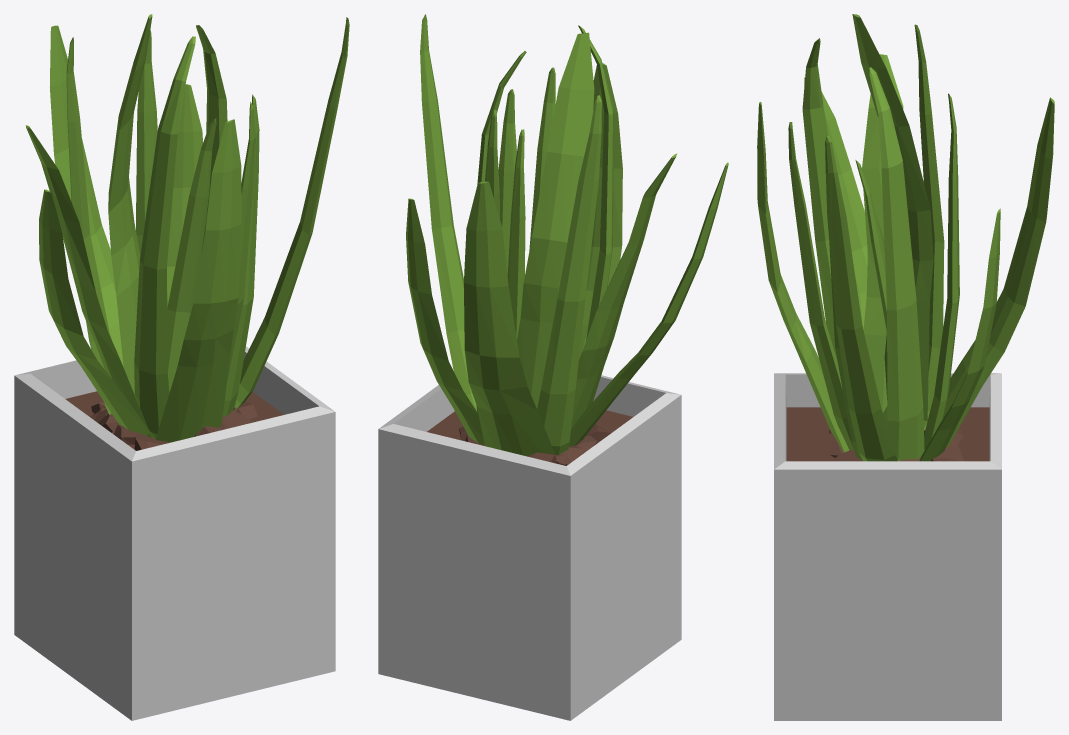
File: Whitevase.glb
3 renders of one model, left to right at view 1: azimuth 30°, elevation 25°; view 2: azimuth 150°, elevation 25°; view 3: azimuth 270°, elevation 25°, orthographic. The views are drawn at different scales.
Visible parts, largest first — view 1: node_MeshObject1368271872-PolyPaper13; view 2: node_MeshObject1368271872-PolyPaper13; view 3: node_MeshObject1368271872-PolyPaper13.
Part boxes in pixels (box(x1,y1,x2,y2)): node_MeshObject1368271872-PolyPaper13: box(14, 14, 349, 720); node_MeshObject1368271872-PolyPaper13: box(378, 14, 728, 720); node_MeshObject1368271872-PolyPaper13: box(757, 14, 1054, 720).
Bounding box in the file's own units: 1.77 × 3.56 × 1.5.
